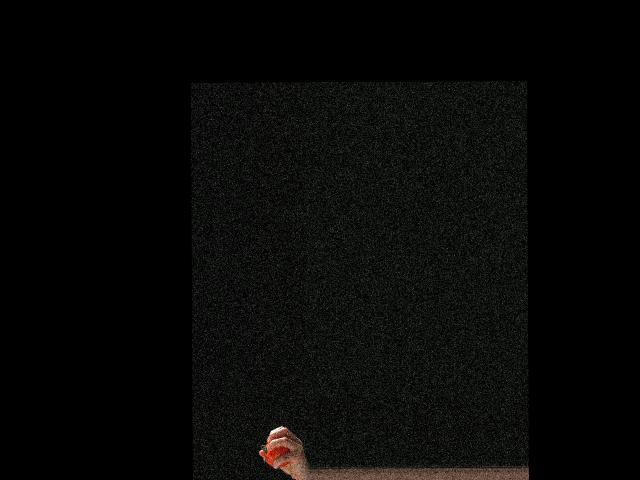tomato: (266, 443, 291, 467)
